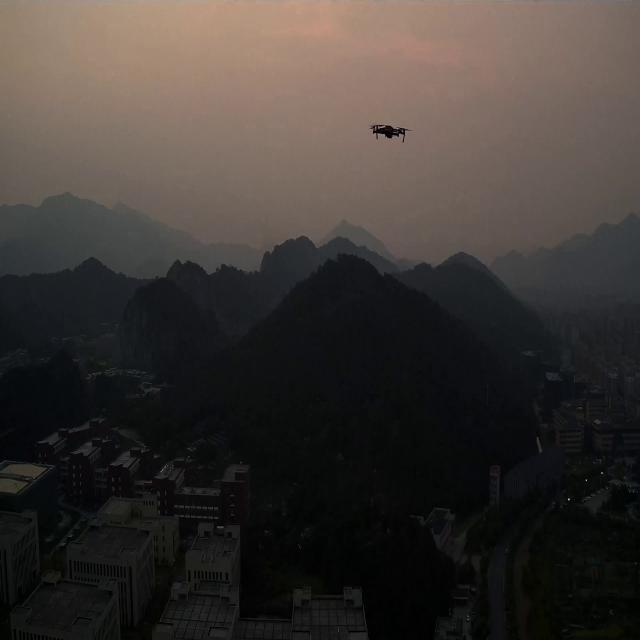UAV: (366, 118, 414, 145)
